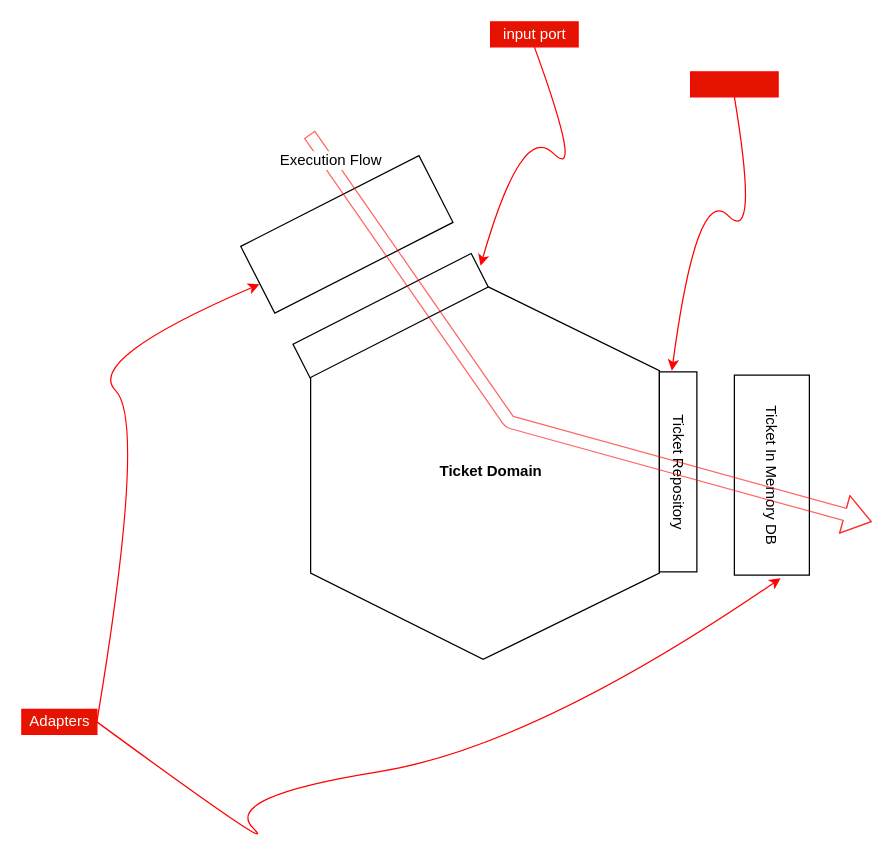
The diagram is 894 pixels wide and 856 high, and some of its shapes have lost their labels. The box of each missing label's shape, as (x1, y1, x2, y2) in pixels:
output port: (689, 71, 778, 97)
Ticket REST API: (239, 154, 453, 313)
Ticket Service: (292, 252, 488, 378)
